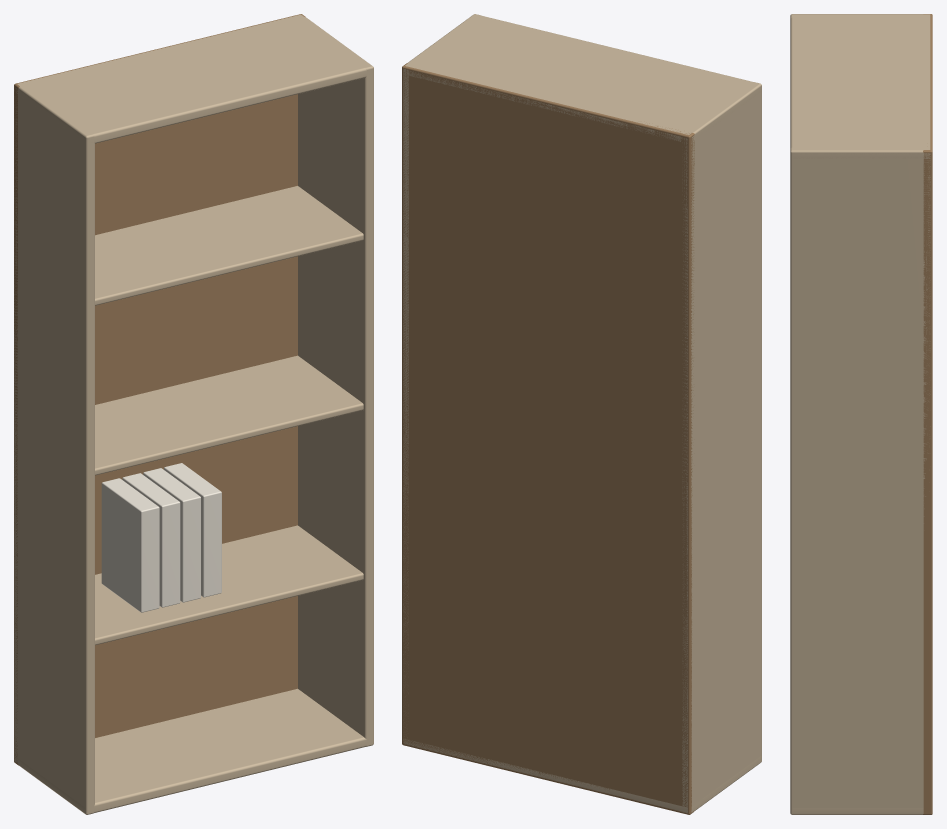
3 renders of one model, left to right at view 1: azimuth 30°, elevation 25°; view 2: azimuth 150°, elevation 25°; view 3: azimuth 270°, elevation 25°, orthographic. The views are drawn at different scales.
Visible parts, largest first — view 1: back, side_-1, side_1, top, bottom, shelf_3, shelf_2, shelf_1, book_0, book_1, book_2, book_3; view 2: back, side_-1, top, side_1, bottom; view 3: side_1, top, back, bottom.
Part boxes in pixels (box(x1,y1,x2,y2)): back: box(14, 14, 305, 765); side_-1: box(14, 86, 94, 814); side_1: box(298, 17, 373, 746); top: box(15, 14, 370, 143); bottom: box(14, 688, 370, 812); shelf_3: box(95, 186, 363, 305); shelf_2: box(95, 355, 363, 475); shelf_1: box(95, 525, 363, 645); book_0: box(101, 478, 159, 612); book_1: box(122, 473, 180, 607); book_2: box(143, 468, 200, 602); book_3: box(164, 463, 221, 597); back: box(402, 63, 694, 814); side_-1: box(682, 82, 761, 812); top: box(405, 14, 761, 141); side_1: box(403, 14, 480, 739); bottom: box(403, 739, 761, 812); side_1: box(790, 147, 930, 814); top: box(790, 14, 930, 158); back: box(923, 14, 932, 814); bottom: box(792, 808, 923, 813).
Bounding box in the file's own units: 0.8 × 1.8 × 0.35.
